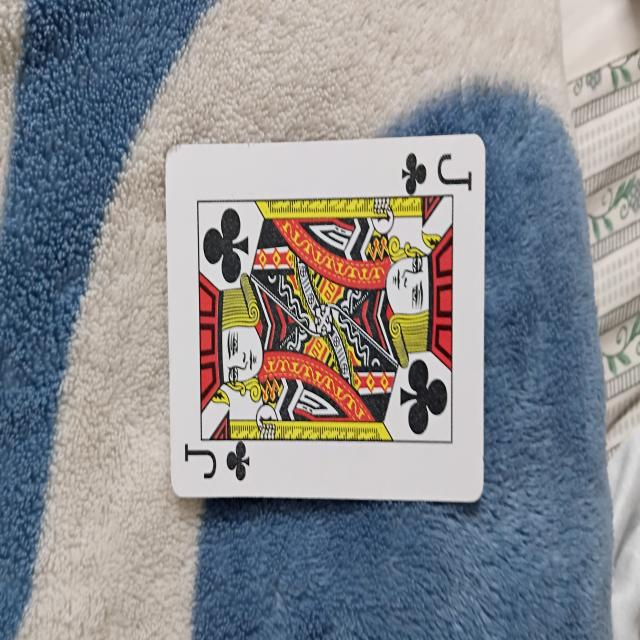JC: (166, 132, 485, 506)
